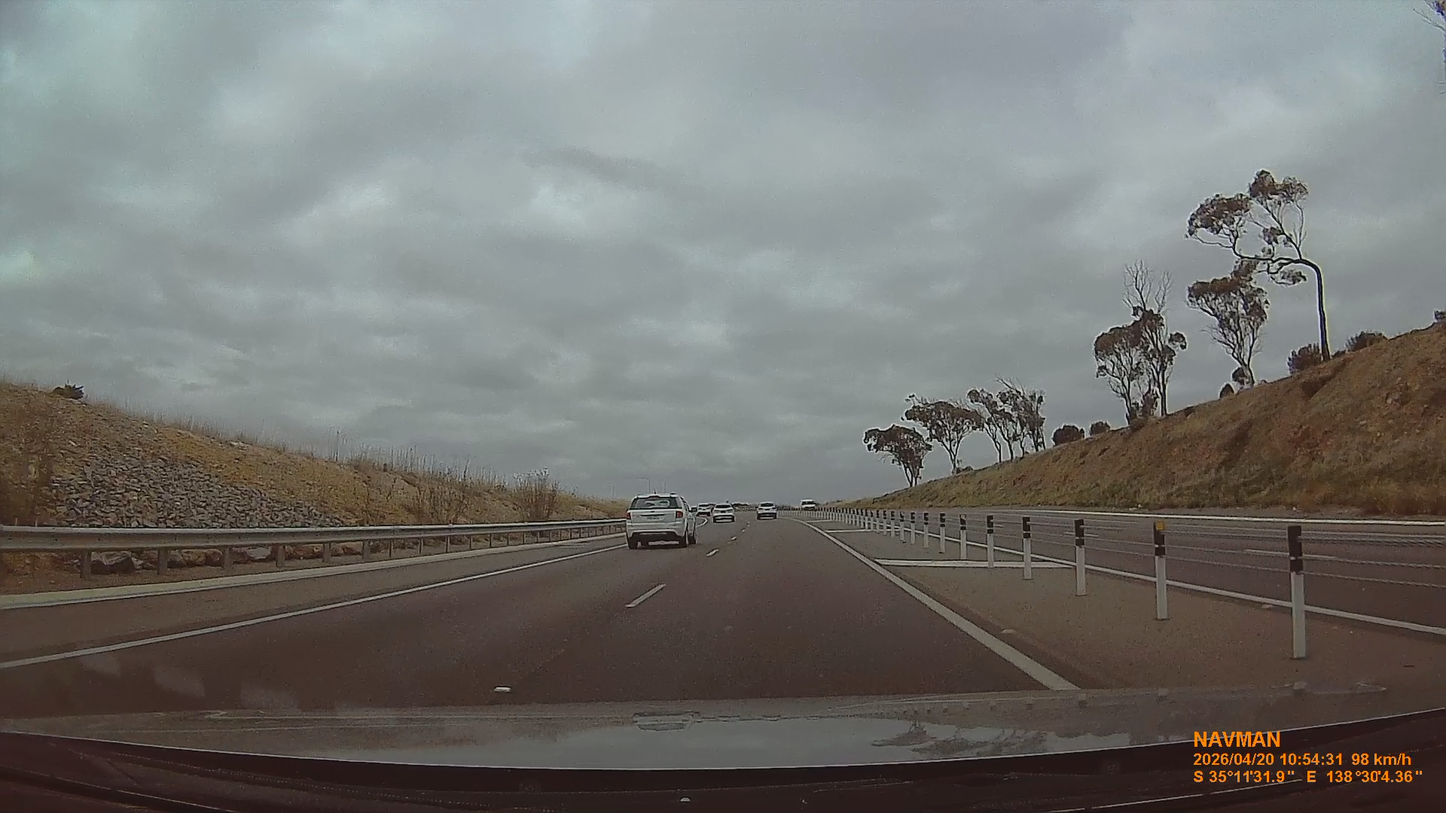road barriers: (822, 509, 1443, 656), (2, 518, 613, 585), (1286, 524, 1306, 659), (1152, 520, 1169, 620), (1073, 519, 1088, 595), (1021, 516, 1032, 580), (985, 514, 996, 569), (959, 514, 967, 560)
